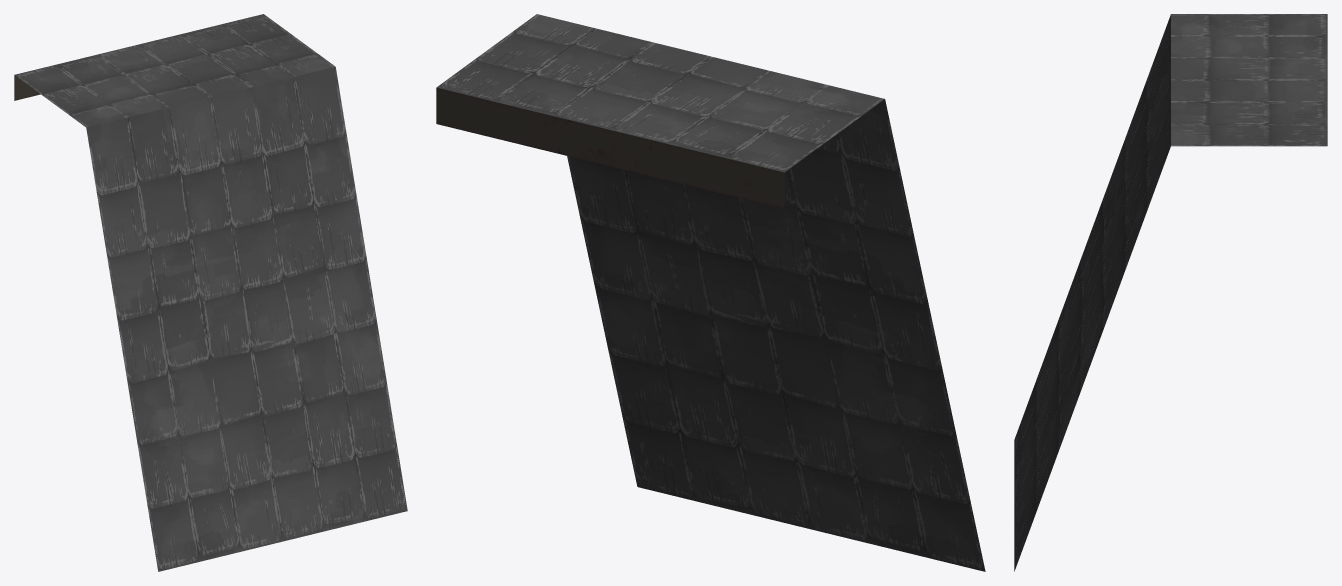
File: Roof_Slate_Center.gltf
3 views of the same model, side by side, from view 1: azimuth 30°, elevation 25°; view 2: azimuth 150°, elevation 25°; view 3: azimuth 270°, elevation 25° (orthographic). The views are drawn at different scales.
Parts seen in each view (by area): view 1: Roof_Slate_Center; view 2: Roof_Slate_Center; view 3: Roof_Slate_Center.
Boxes of the visible parts, x1,y1,x2,y2 form: Roof_Slate_Center: (14, 14, 407, 571); Roof_Slate_Center: (436, 14, 985, 571); Roof_Slate_Center: (1014, 14, 1327, 571).
Size of the model in its own units: 2 by 3 by 2.
2 materials, 2 textured.
